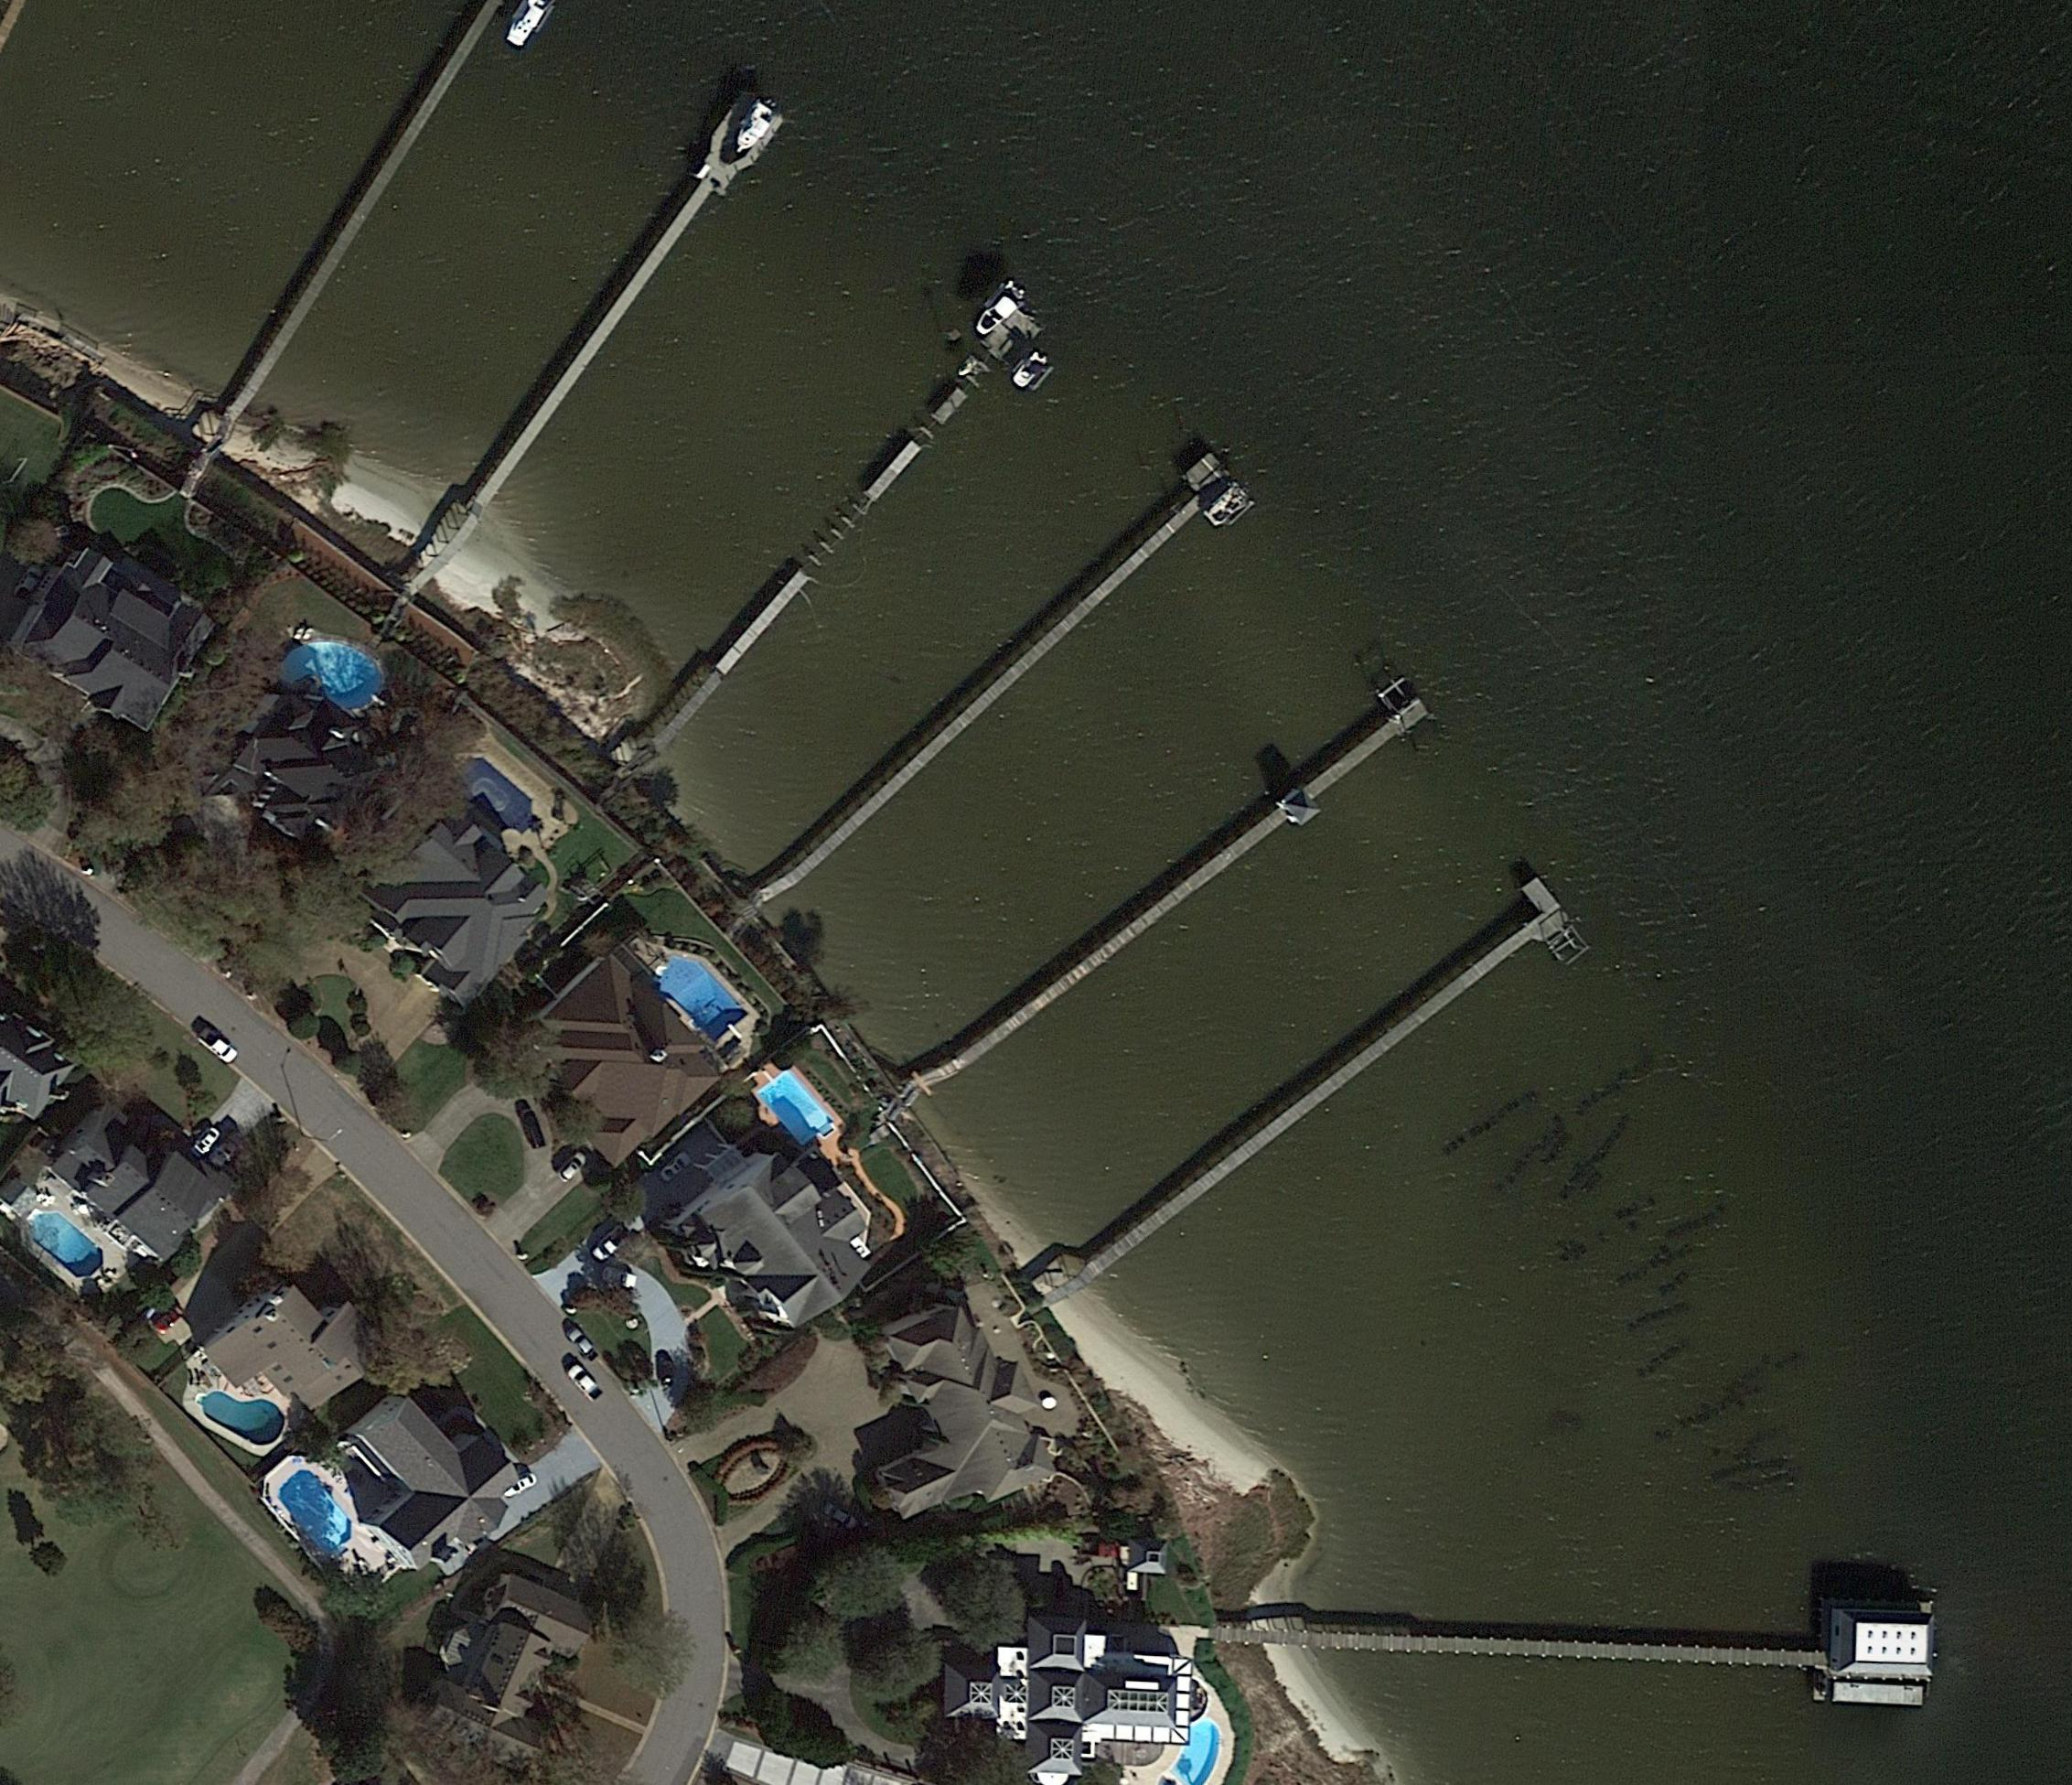harbor: (751, 448, 1254, 930), (1066, 870, 1595, 1315), (927, 673, 1432, 1078), (446, 85, 791, 525), (1304, 1584, 1933, 1707)
ship: (728, 97, 779, 160), (969, 291, 1022, 340), (1202, 483, 1251, 532), (1008, 345, 1054, 393), (953, 352, 981, 381)
